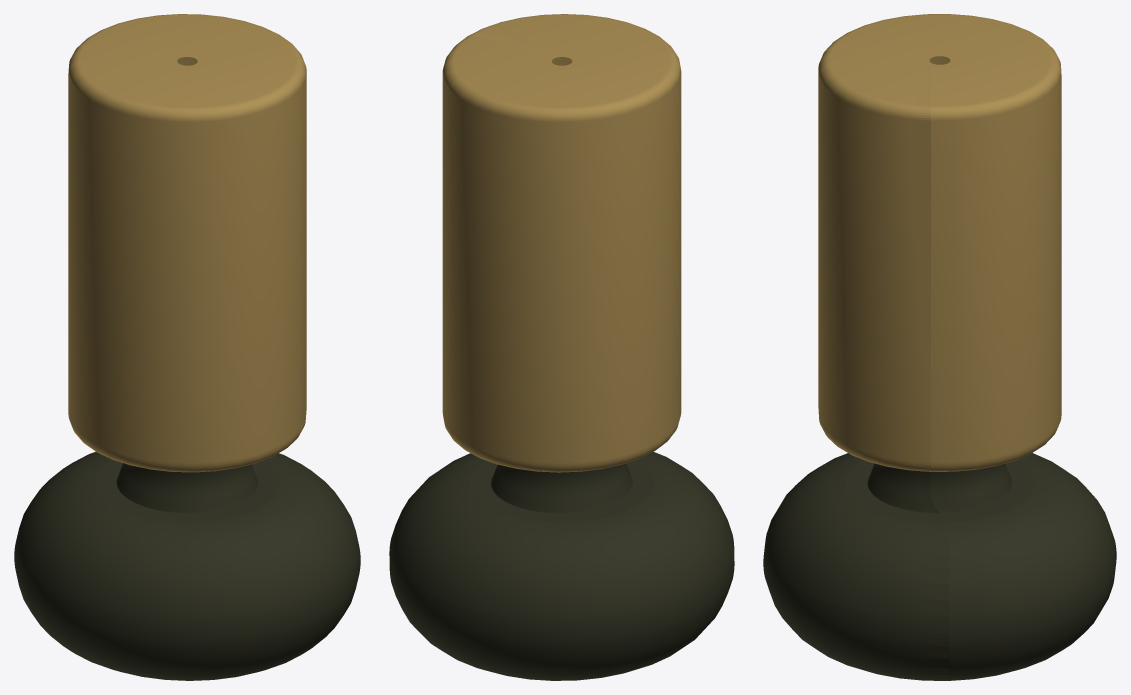
The model's file is IKEA-Lykta_Table_Lamp-3D.DAE.
3 views of the same model, side by side, from view 1: azimuth 30°, elevation 25°; view 2: azimuth 150°, elevation 25°; view 3: azimuth 270°, elevation 25° (orthographic).
Parts seen in each view (by area): view 1: Rectangle0; view 2: Rectangle0; view 3: Rectangle0.
Part boxes in pixels (x1,y1,x2,y2): Rectangle0: [14, 14, 360, 680]; Rectangle0: [389, 14, 734, 680]; Rectangle0: [763, 14, 1116, 680].
Size of the model in its own units: 3699 by 6798 by 3788.
